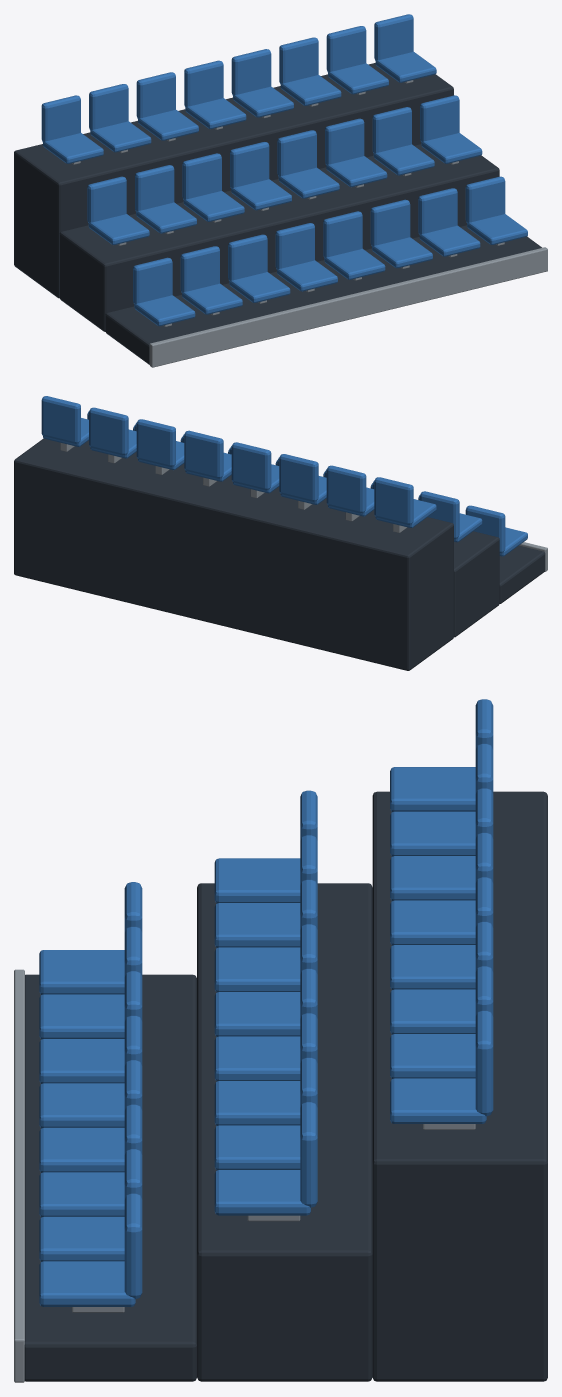
The model's file is stadium-tier.glb.
3 views of the same model, one above another, from view 1: azimuth 30°, elevation 25°; view 2: azimuth 150°, elevation 25°; view 3: azimuth 270°, elevation 25° (orthographic). The views are drawn at different scales.
Visible parts, largest first — view 1: MESH_Team_Primary, MESH_Graphite, MESH_Brushed_Metal; view 2: MESH_Graphite, MESH_Team_Primary, MESH_Brushed_Metal; view 3: MESH_Graphite, MESH_Team_Primary, MESH_Brushed_Metal.
Part boxes in pixels (left/top/right/bottom): MESH_Team_Primary: left=41, top=14, right=527, bottom=326; MESH_Graphite: left=14, top=63, right=541, bottom=364; MESH_Brushed_Metal: left=72, top=80, right=547, bottom=367; MESH_Graphite: left=14, top=438, right=545, bottom=670; MESH_Team_Primary: left=41, top=396, right=527, bottom=556; MESH_Brushed_Metal: left=60, top=442, right=547, bottom=571; MESH_Graphite: left=24, top=791, right=547, bottom=1381; MESH_Team_Primary: left=39, top=699, right=493, bottom=1306; MESH_Brushed_Metal: left=14, top=969, right=475, bottom=1382.
Bounding box in the file's own units: 2 × 0.825 × 1.22.
